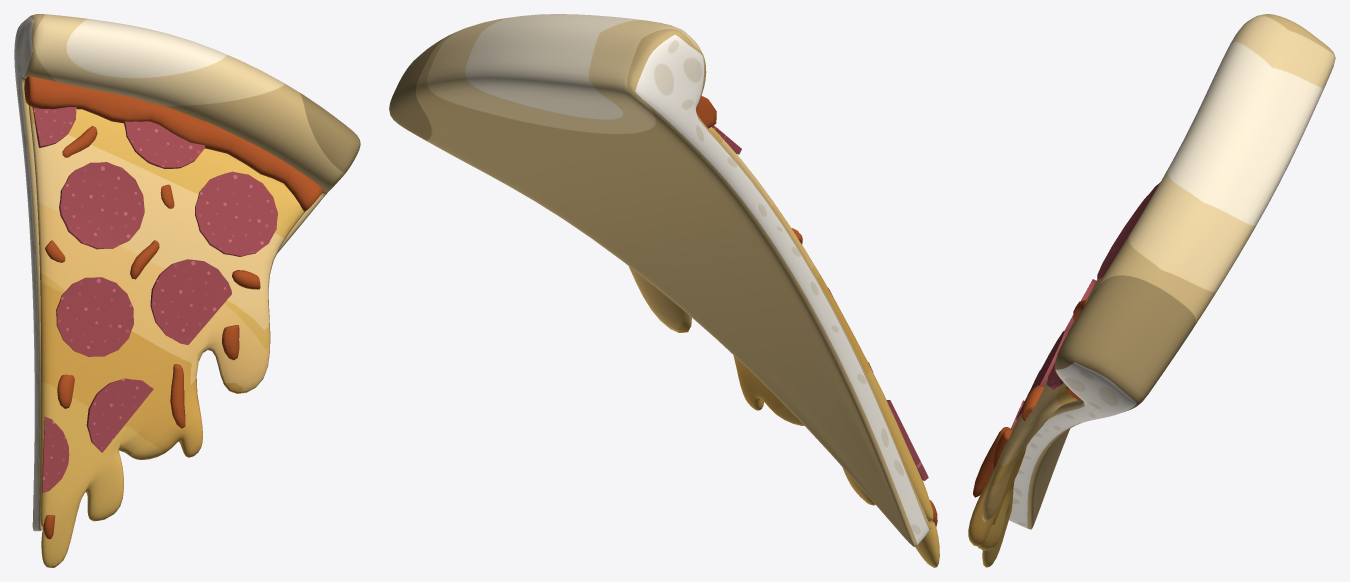
The picture shows the model from 3 angles, left to right: view 1: azimuth 30°, elevation 25°; view 2: azimuth 150°, elevation 25°; view 3: azimuth 270°, elevation 25°; orthographic projection. The views are drawn at different scales.
Parts seen in each view (by area): view 1: Cheese_4, Dough_3, Sause.001_5, Salami 1_6, Salami 4_11, Salami 6_8, Salami 5_7, Sause.002_14, Salami 7_9, Salami 3_12, Salami 8_10, Salami 2_13; view 2: Dough_3, Cheese_4; view 3: Dough_3, Cheese_4, Sause.002_14, Salami 1_6, Salami 5_7.
Boxes of the visible parts, x1,y1,x2,y2 form: Cheese_4: (29, 105, 304, 567); Dough_3: (14, 14, 360, 531); Sause.001_5: (24, 76, 323, 211); Salami 1_6: (59, 162, 144, 249); Salami 4_11: (195, 171, 277, 256); Salami 6_8: (56, 277, 133, 356); Salami 5_7: (150, 259, 231, 344); Sause.002_14: (43, 126, 260, 539); Salami 7_9: (86, 378, 153, 452); Salami 3_12: (124, 121, 205, 168); Salami 8_10: (42, 416, 69, 493); Salami 2_13: (32, 107, 76, 147); Dough_3: (389, 14, 930, 546); Cheese_4: (628, 127, 939, 567); Dough_3: (1009, 14, 1335, 529); Cheese_4: (968, 280, 1099, 567); Sause.002_14: (973, 299, 1088, 497); Salami 1_6: (1097, 182, 1160, 281); Salami 5_7: (1016, 330, 1067, 420).
Bounding box in the file's own units: 3.98 × 4.83 × 2.63.
4 materials, 3 textured.
